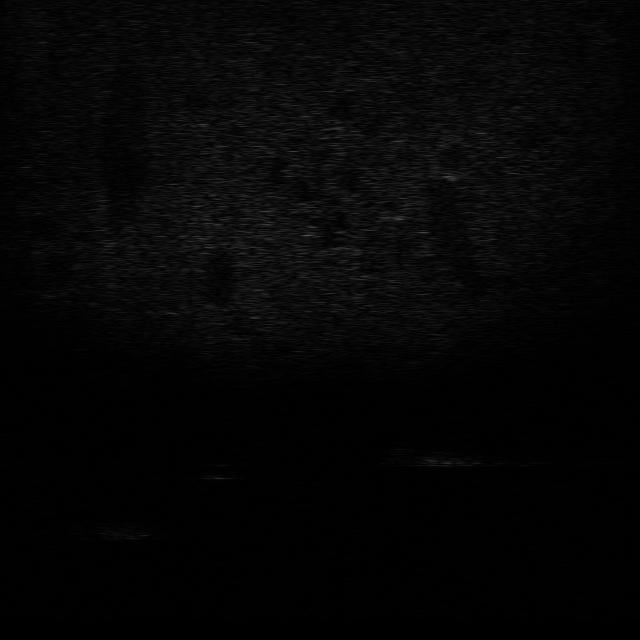ball: (194, 457, 244, 485)
circle cage: (75, 514, 151, 544)
human body: (378, 438, 482, 469)
